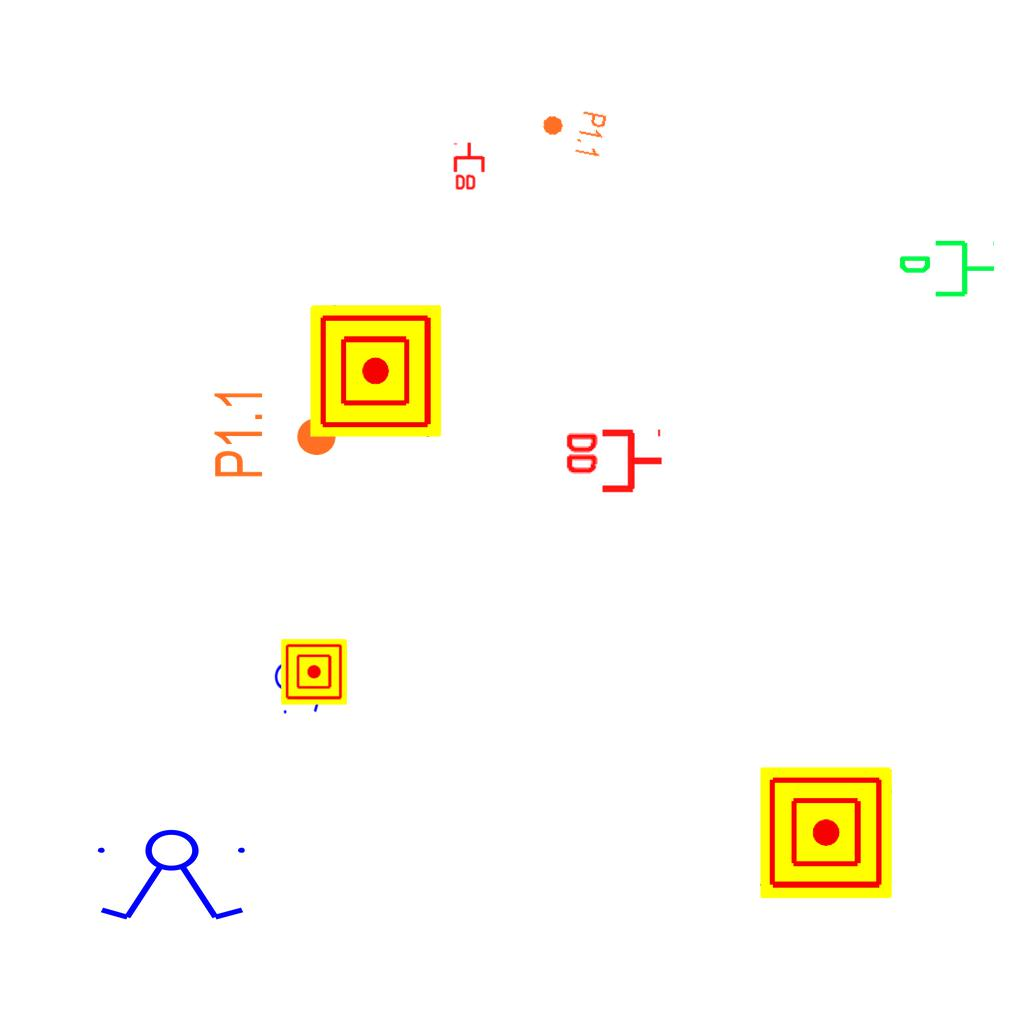Datenanschluss_einfach: (897, 236, 997, 305)
Datenanschluss_zweifach: (562, 428, 665, 497), (453, 141, 487, 192)
Downlight_LED_Einbauleuchten_Flur: (211, 387, 339, 480), (537, 102, 609, 160)
NAM-Nichtautomatischer_Melder: (760, 767, 892, 899), (310, 305, 442, 437), (281, 639, 347, 705)
Serienschalter: (89, 828, 257, 924), (274, 634, 322, 718)
